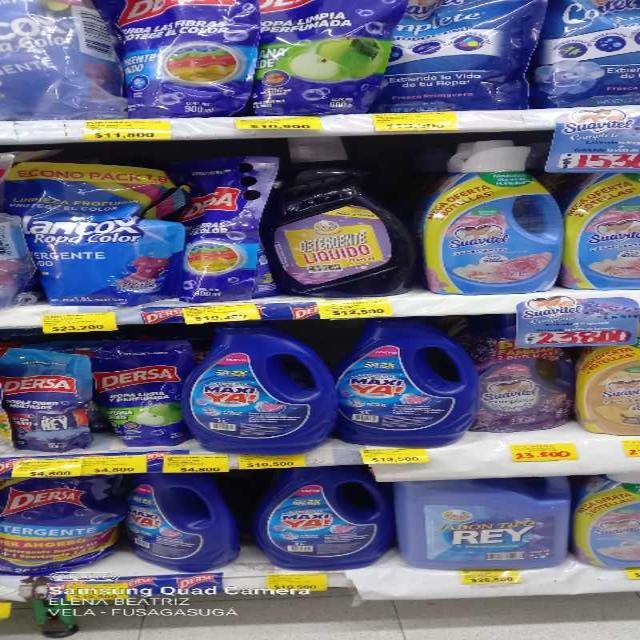Jabon_rey: (392, 463, 573, 570)
